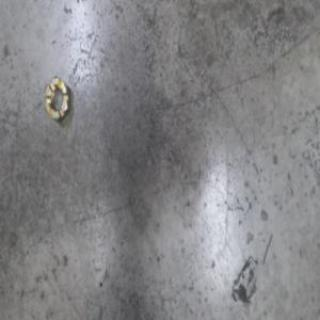Nuttrack_idkeyframe: (42, 72, 71, 124)
